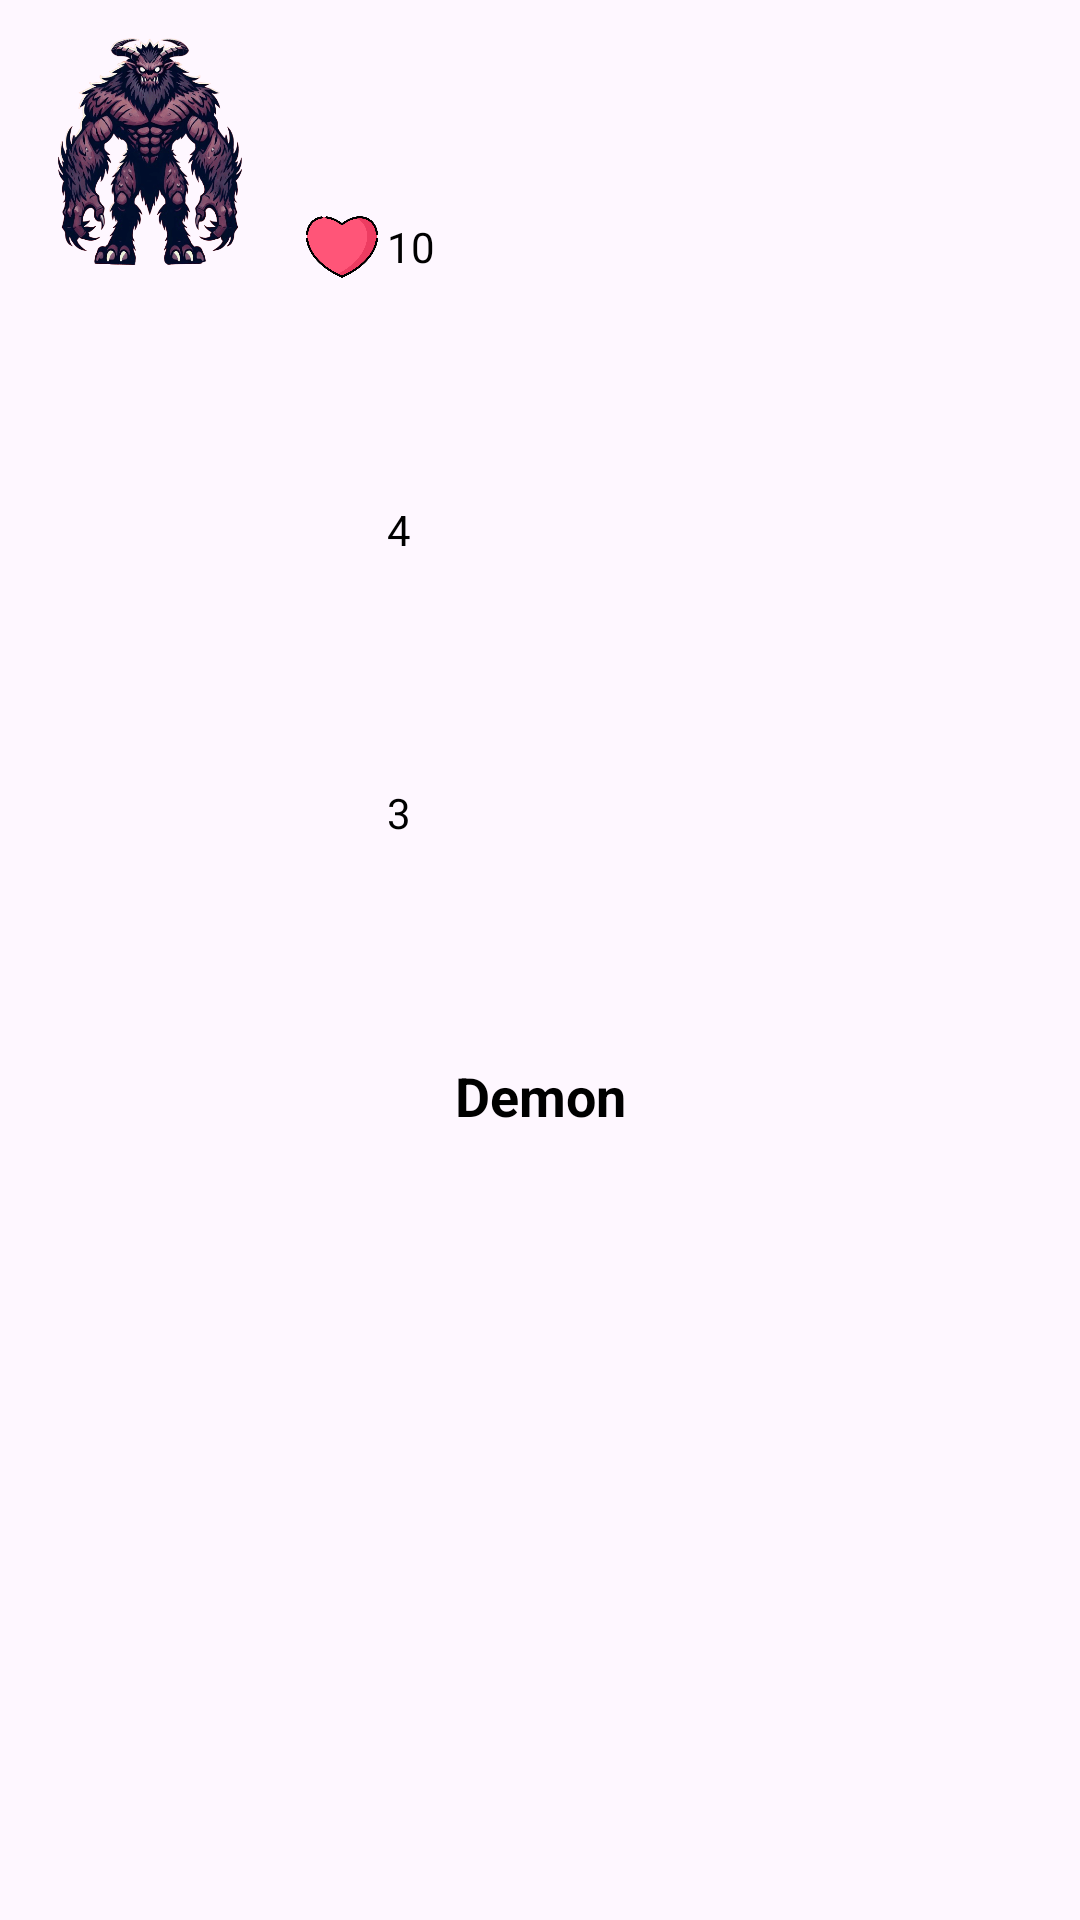

Locate icon controls on the screen. Image size 1080w x 1920h, boxes as (x1,y1,x2,y2).
demon: (58,38,242,265)
heart: (306,216,378,278)
